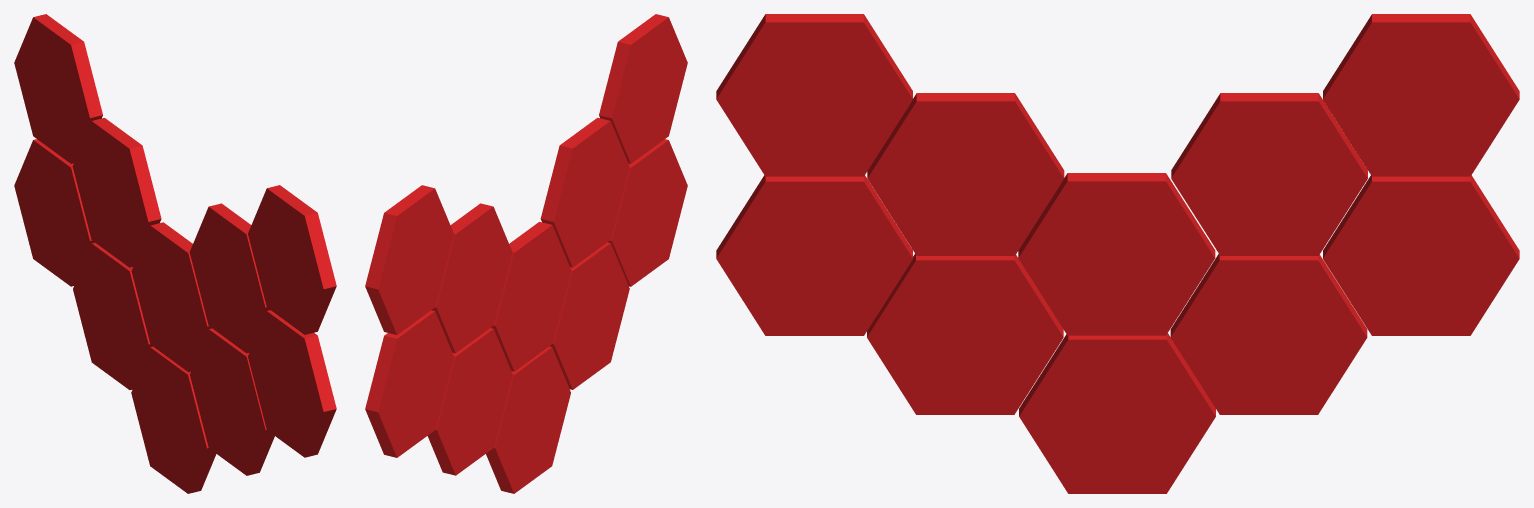
File: gamingLight.glb
3 renders of one model, left to right at view 1: azimuth 30°, elevation 25°; view 2: azimuth 150°, elevation 25°; view 3: azimuth 270°, elevation 25°, orthographic. The views are drawn at different scales.
Visible parts, largest first — view 1: Cylinder.001; view 2: Cylinder.001; view 3: Cylinder.001.
Boxes of the visible parts, box(x1,y1,x2,y2) form: Cylinder.001: box(14, 14, 336, 493); Cylinder.001: box(365, 14, 687, 493); Cylinder.001: box(716, 14, 1519, 493).
Bounding box in the file's own units: 0.0973 × 2.57 × 3.97.
